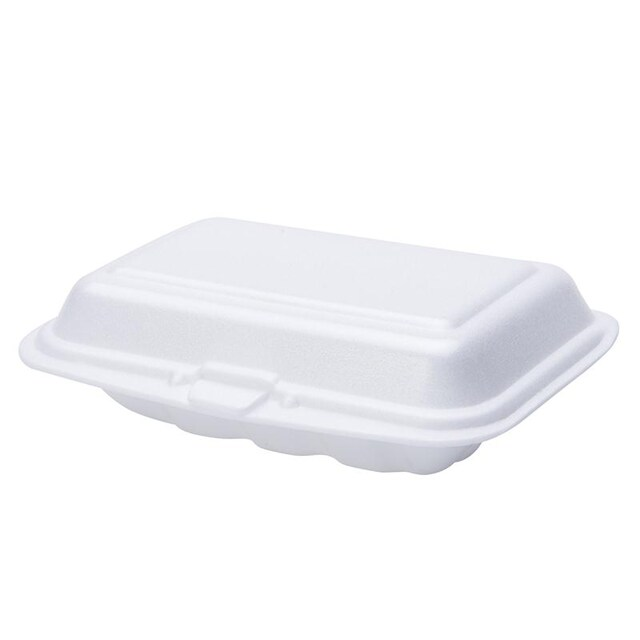Foam Box: (13, 213, 626, 479)
